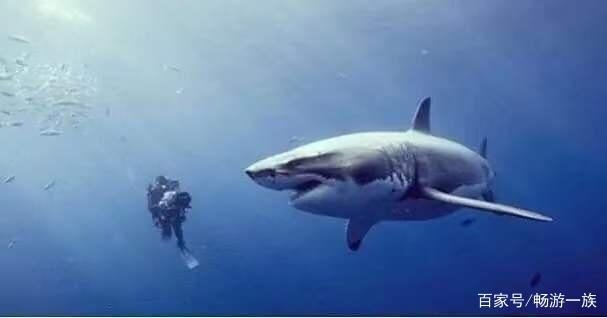fish: (244, 98, 554, 242)
